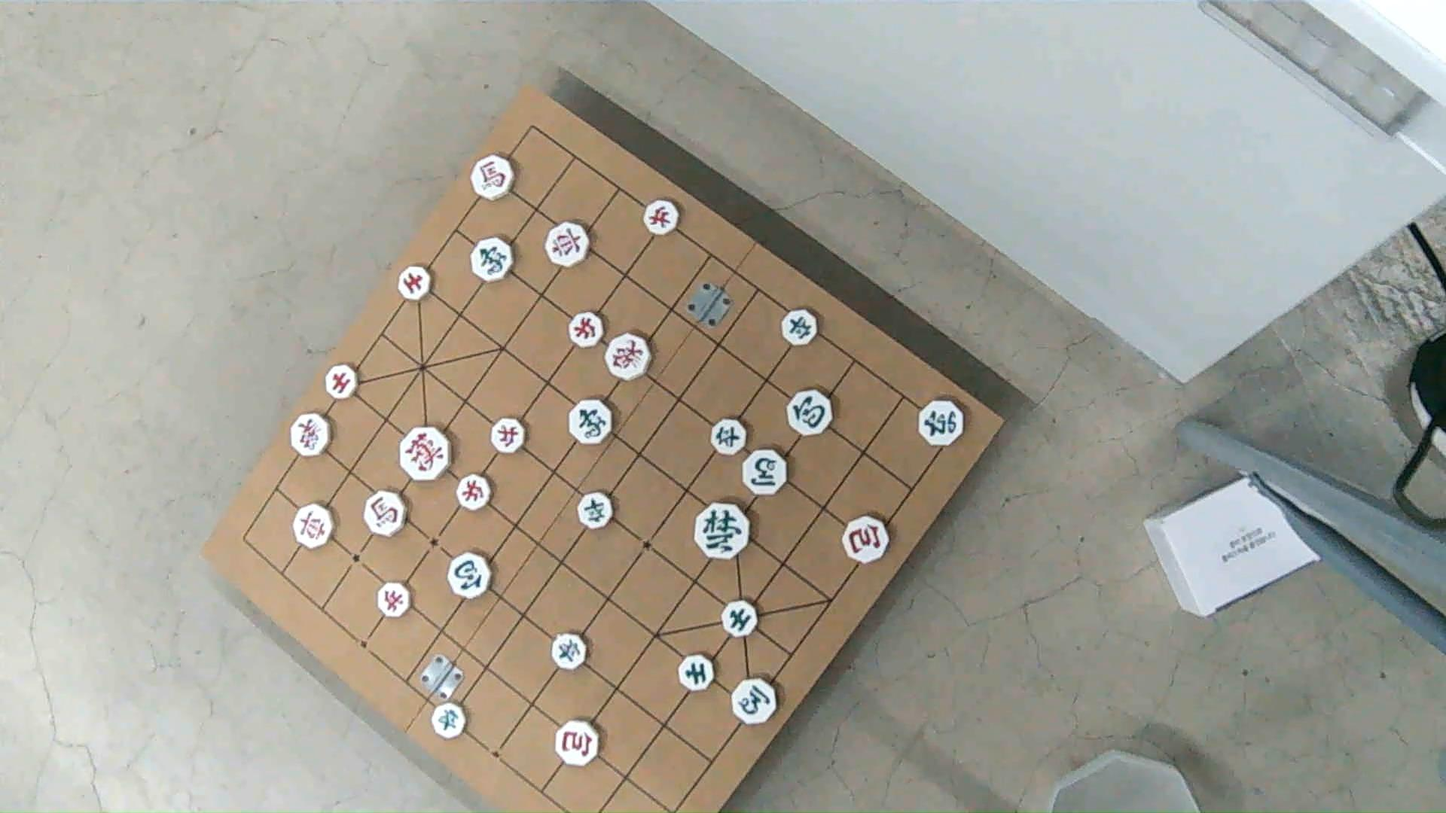cha_green: (919, 399, 966, 445)
cha_red: (546, 221, 590, 266), (295, 505, 337, 549)
jol_green: (578, 491, 615, 528), (551, 633, 587, 671), (712, 418, 749, 454), (782, 312, 819, 348), (433, 702, 466, 739)
jol_red: (490, 417, 525, 453), (569, 310, 604, 346), (643, 199, 679, 234), (458, 475, 493, 510), (377, 583, 411, 618)
ma_green: (742, 449, 787, 495), (733, 680, 777, 725)
ma_red: (470, 154, 514, 199), (365, 492, 408, 537)
po_green: (447, 552, 491, 599), (788, 389, 831, 434)
po_red: (844, 516, 890, 562), (554, 720, 599, 766)
sa_green: (721, 601, 758, 638), (681, 654, 716, 691)
sa_red: (398, 266, 432, 301), (323, 364, 357, 399)
sang_green: (570, 400, 614, 446), (470, 237, 513, 282)
sang_red: (606, 333, 651, 380), (290, 413, 330, 456)
wang_green: (697, 503, 752, 561)
wang_red: (398, 427, 449, 482)
